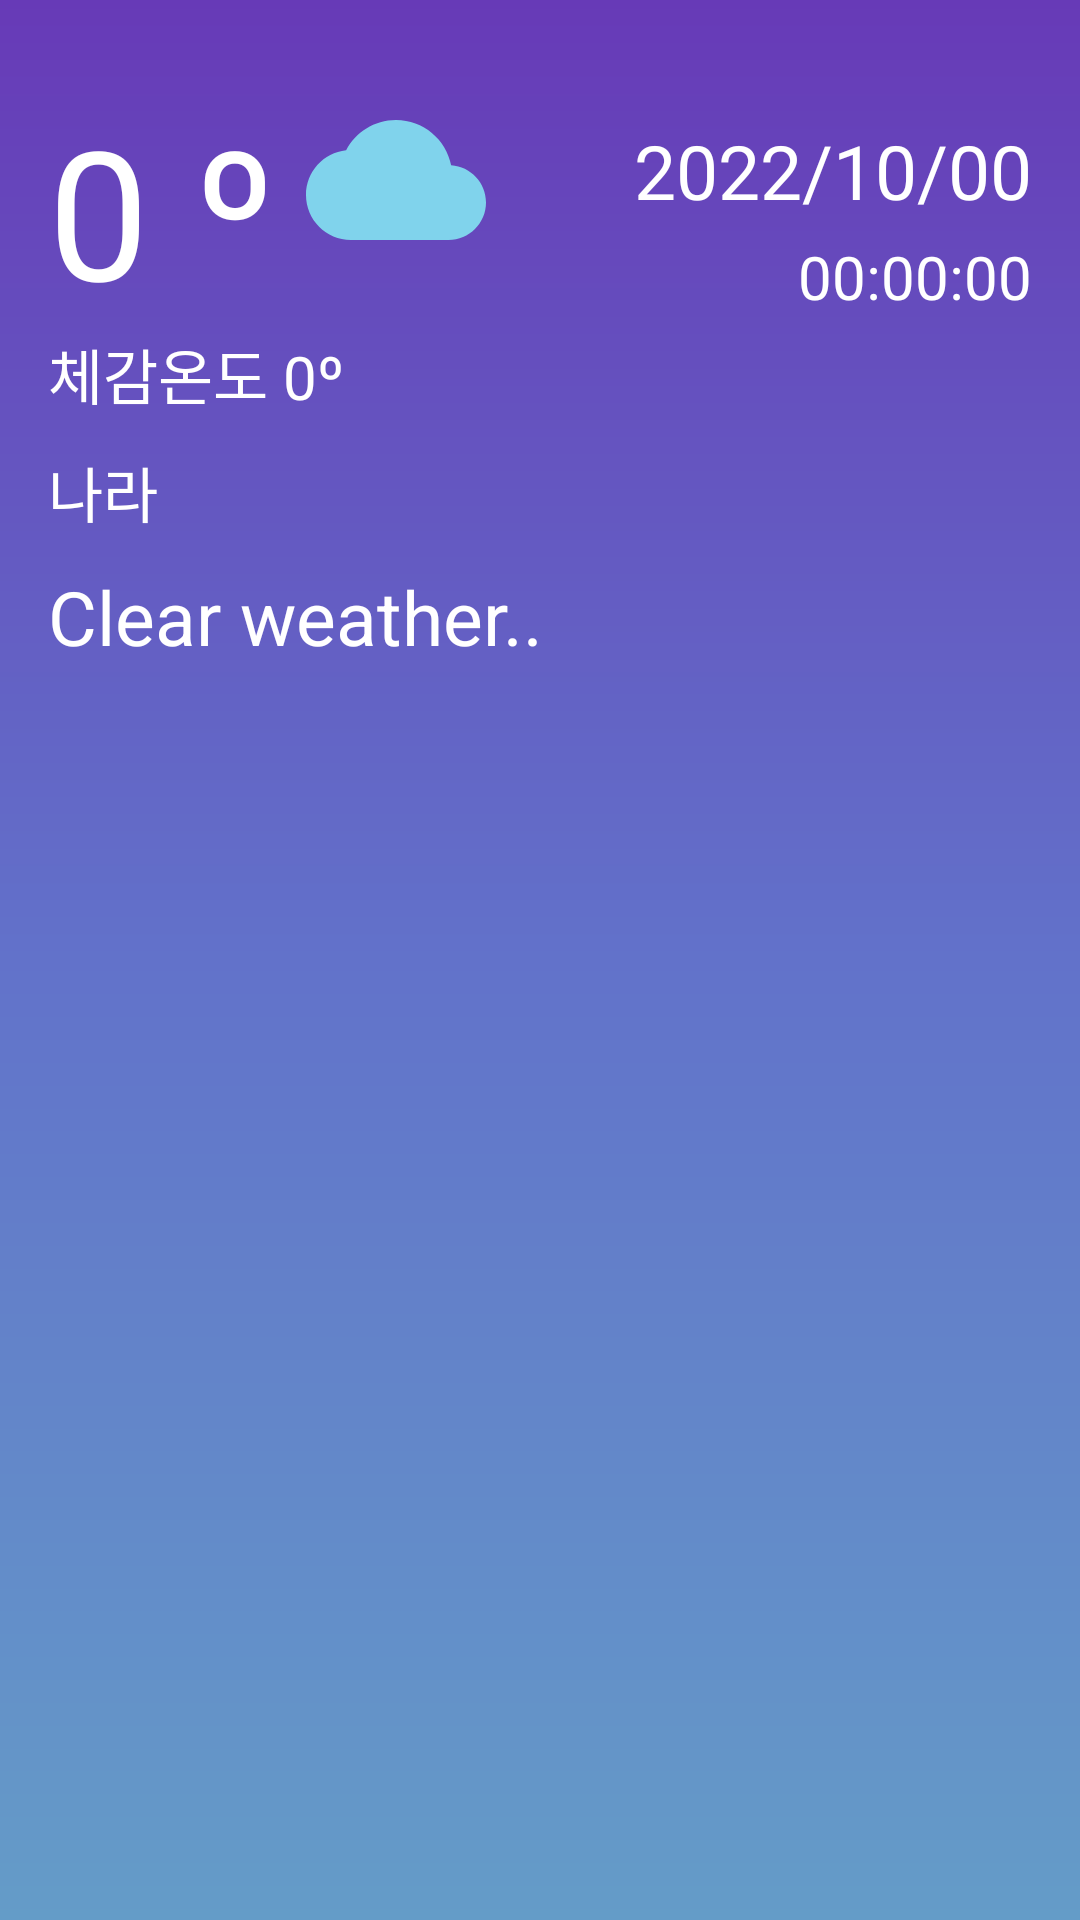

Screen size 1080 x 1920. Icon name, then its box in pixels as rect(x1, y1, x2, y2):
cloud: rect(306, 120, 486, 240)
